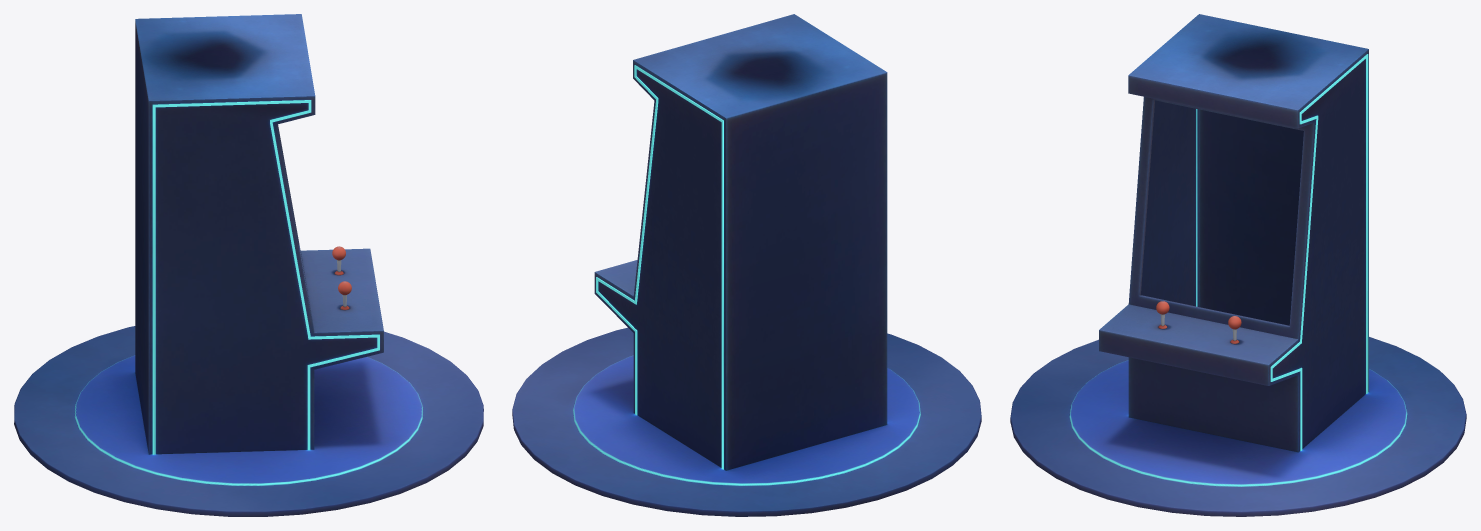
File: GameStation_LOD1.glb
3 views of the same model, side by side, from view 1: azimuth 30°, elevation 25°; view 2: azimuth 150°, elevation 25°; view 3: azimuth 270°, elevation 25° (orthographic). The views are drawn at different scales.
Parts seen in each view (by area): view 1: Game Station_PROCESSED.001_LOD1; view 2: Game Station_PROCESSED.001_LOD1; view 3: Game Station_PROCESSED.001_LOD1.
Part boxes in pixels (bbox=[...]): Game Station_PROCESSED.001_LOD1: bbox=[14, 14, 483, 516]; Game Station_PROCESSED.001_LOD1: bbox=[512, 14, 981, 516]; Game Station_PROCESSED.001_LOD1: bbox=[1010, 14, 1466, 516].
Bounding box in the file's own units: 4.1 × 3.47 × 4.1.
1 material, 1 textured.
